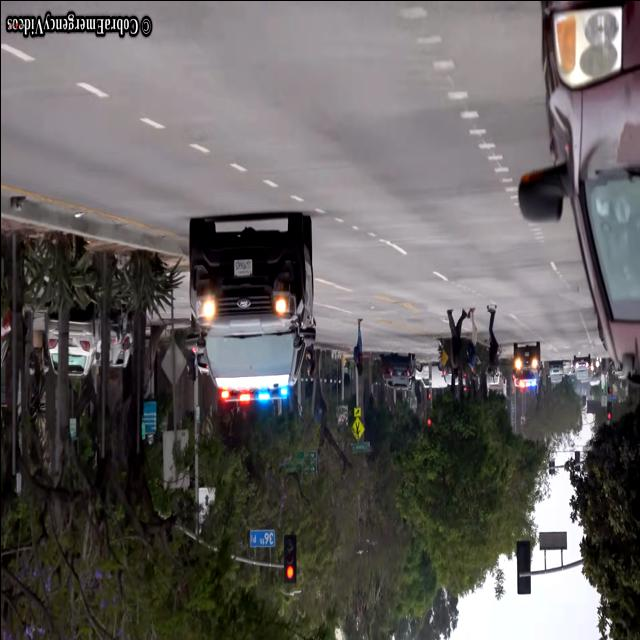emergency-vehicles: (182, 184, 314, 408)
